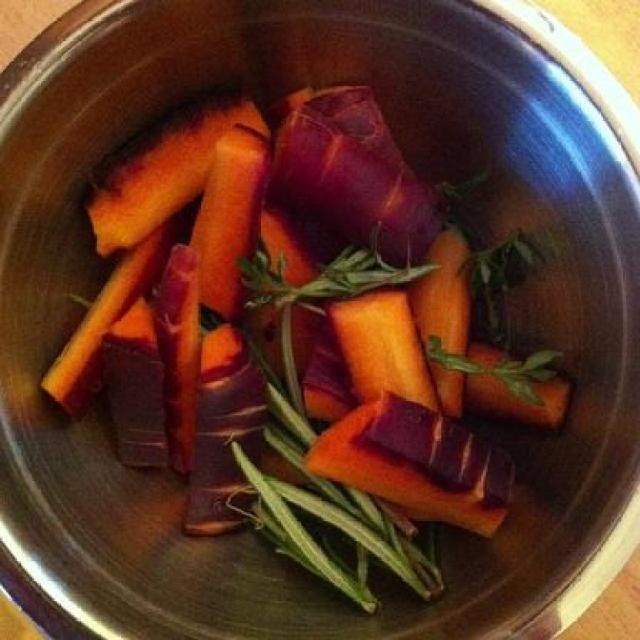Carrot: (326, 279, 444, 416)
